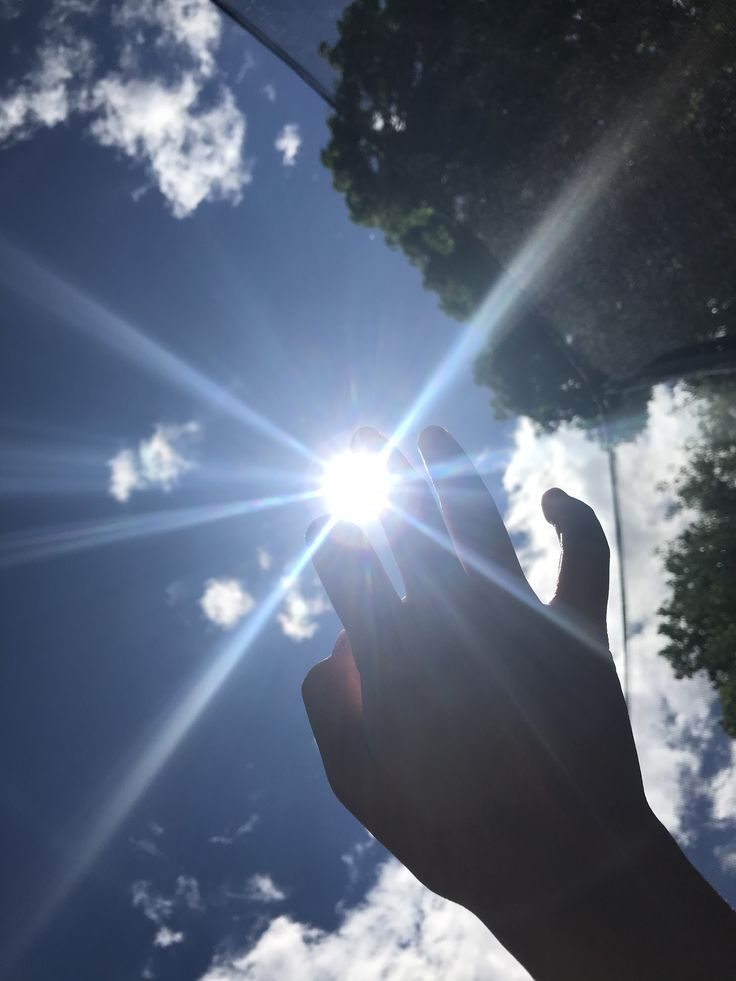sun: (293, 425, 414, 548)
